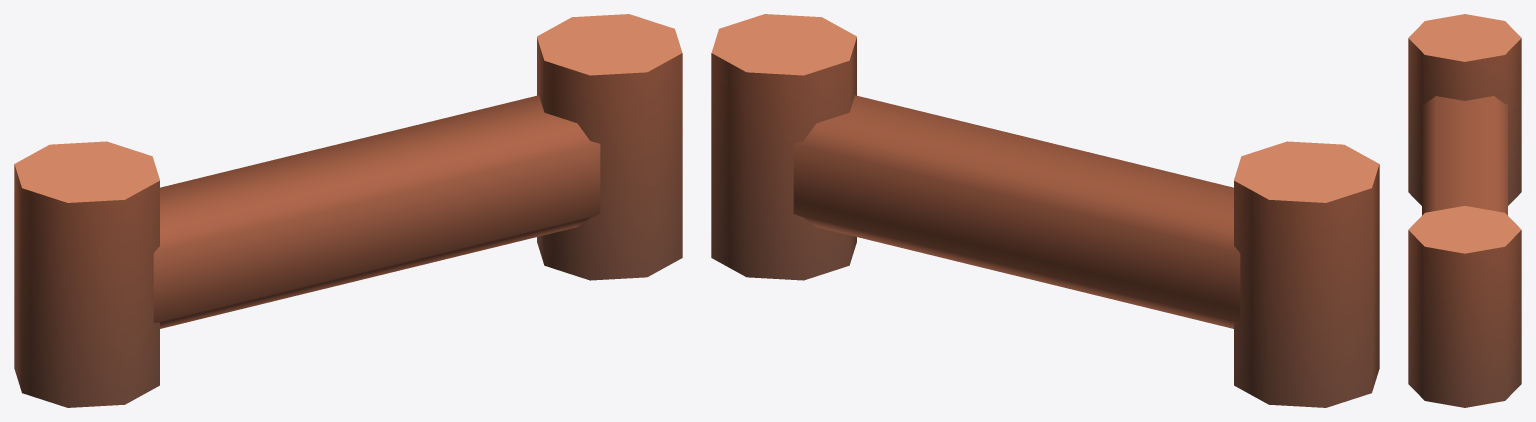
The model's file is pf_fence-low-straight.glb.
3 views of the same model, side by side, from view 1: azimuth 30°, elevation 25°; view 2: azimuth 150°, elevation 25°; view 3: azimuth 270°, elevation 25° (orthographic). The views are drawn at different scales.
Parts seen in each view (by area): view 1: fence-low-straight; view 2: fence-low-straight; view 3: fence-low-straight.
Part boxes in pixels (x1,y1,x2,y2): fence-low-straight: (14,14,682,407); fence-low-straight: (711,14,1379,407); fence-low-straight: (1408,14,1521,407).
Bounding box in the file's own units: 1 × 0.3 × 0.2.
Materials: 1 (1 with a texture image).
